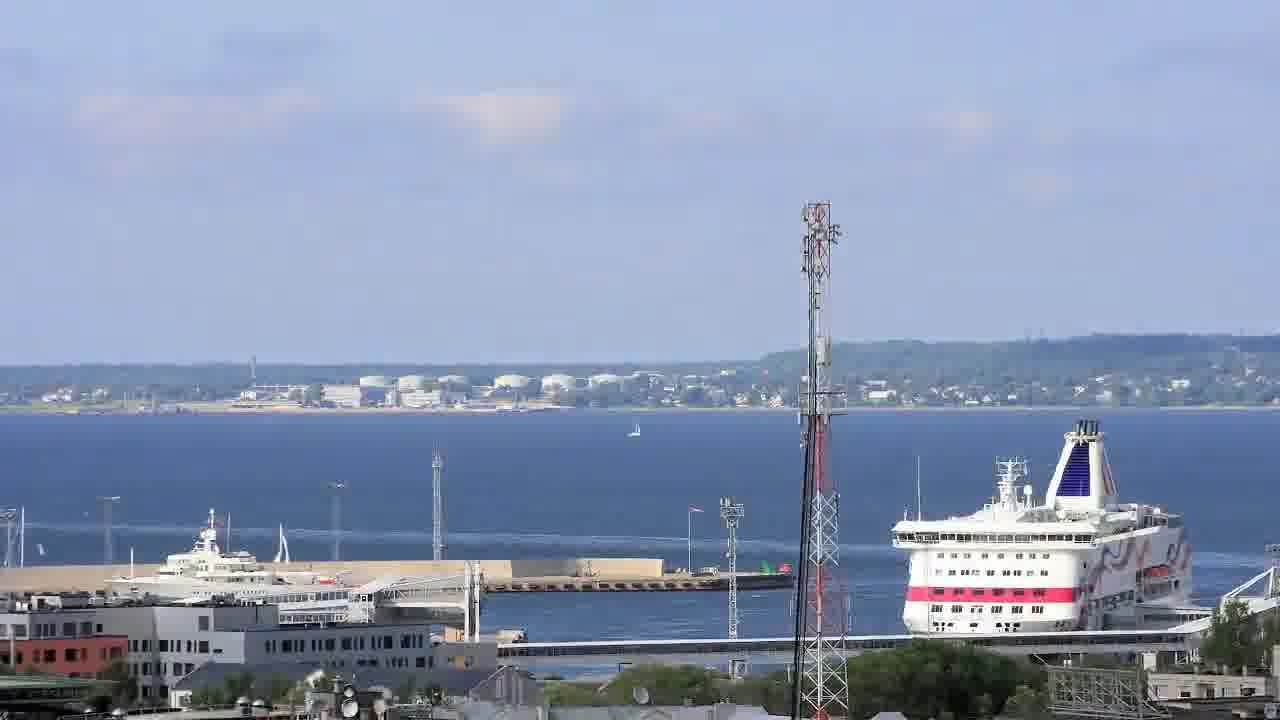type-2: (611, 397, 657, 456)
type-3: (868, 415, 1225, 638), (84, 511, 353, 609)
